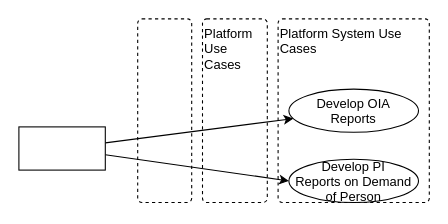
Image size: 448x224. Some labels were removed from this diagram. Here are the shapes that lost their labels. From the top down, the centre of each, then its label:
point 164,110: Project Module Use Cases
point 61,148: <<actor>> Operations Service
